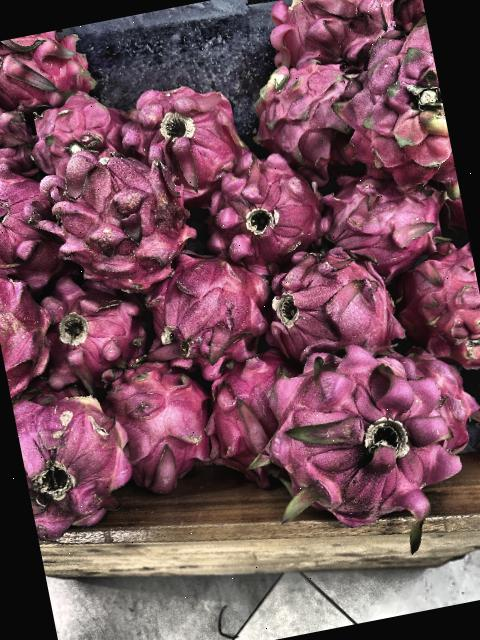buah-naga-matang: (262, 339, 471, 547), (26, 139, 200, 298), (316, 12, 458, 206), (12, 382, 145, 545), (256, 235, 412, 371), (93, 351, 226, 494), (184, 144, 327, 268), (108, 74, 246, 201), (134, 248, 274, 370), (29, 266, 164, 389), (309, 157, 443, 277), (196, 349, 302, 489), (379, 232, 480, 373), (244, 54, 354, 172), (256, 0, 398, 77), (21, 85, 134, 174), (0, 251, 65, 404), (0, 162, 76, 289), (0, 24, 99, 115), (0, 82, 43, 187)
